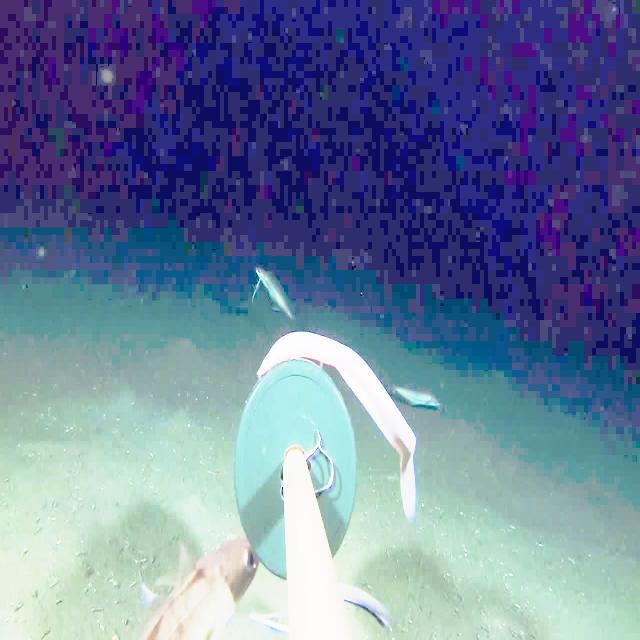eel: (245, 318, 420, 533), (336, 562, 402, 637)
fish: (132, 536, 260, 640), (387, 372, 454, 421), (246, 264, 300, 322)
pole: (244, 401, 352, 555)
